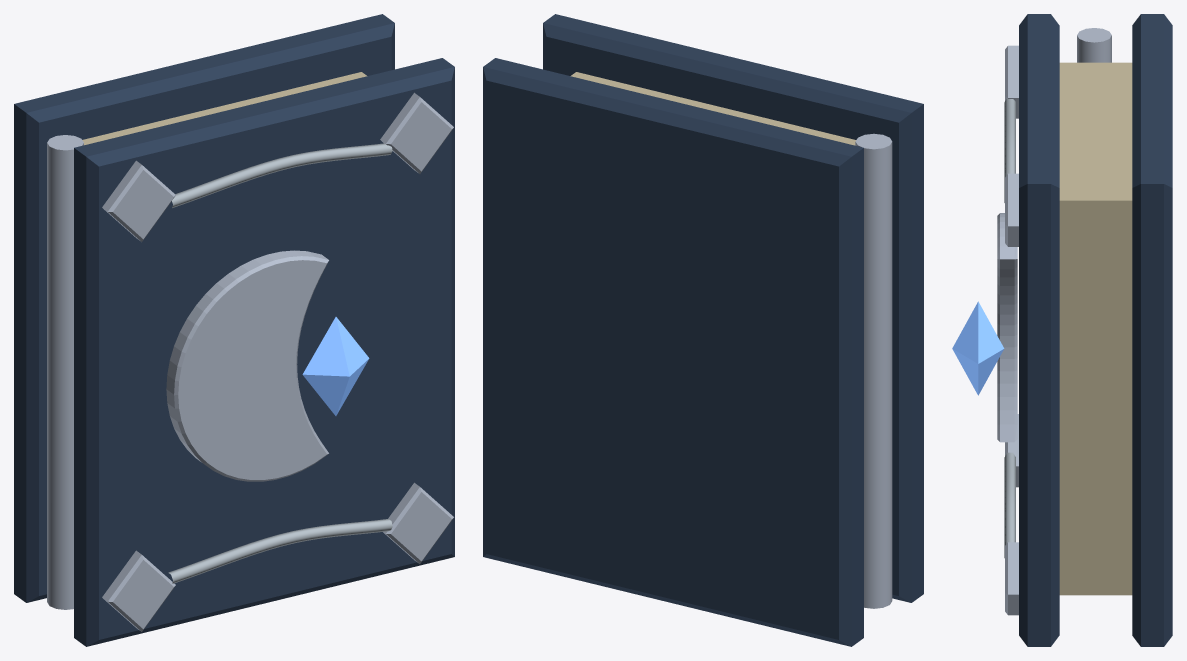
The model's file is universal-high.glb.
3 renders of one model, left to right at view 1: azimuth 30°, elevation 25°; view 2: azimuth 150°, elevation 25°; view 3: azimuth 270°, elevation 25°, orthographic. The views are drawn at different scales.
Visible parts, largest first — view 1: Skyweaver Tome; view 2: Skyweaver Tome; view 3: Skyweaver Tome.
Boxes of the visible parts, x1,y1,x2,y2 form: Skyweaver Tome: [14, 14, 454, 646]; Skyweaver Tome: [483, 14, 923, 646]; Skyweaver Tome: [952, 14, 1172, 646].
Bounding box in the file's own units: 0.278 × 0.352 × 0.152.
